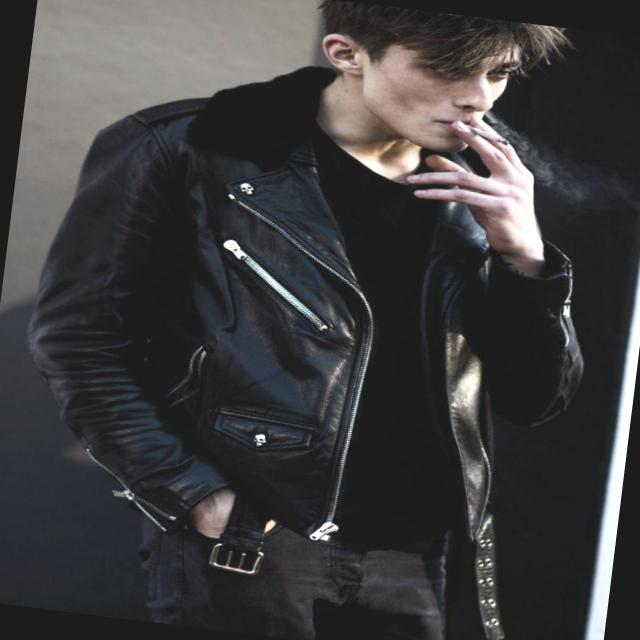smoke: (432, 116, 520, 157)
